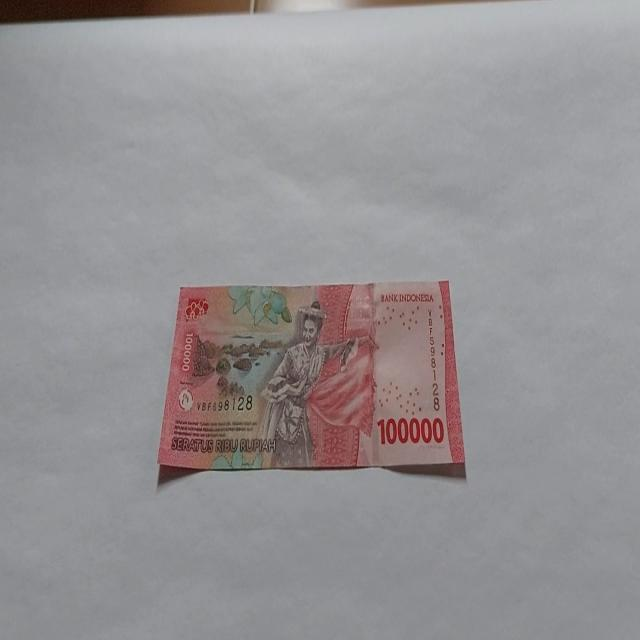seratus ribu rupiah: (156, 278, 466, 478), (255, 298, 357, 468)
